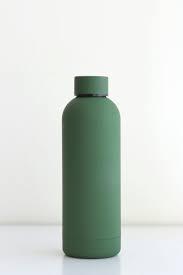bottle: (57, 75, 124, 261)
